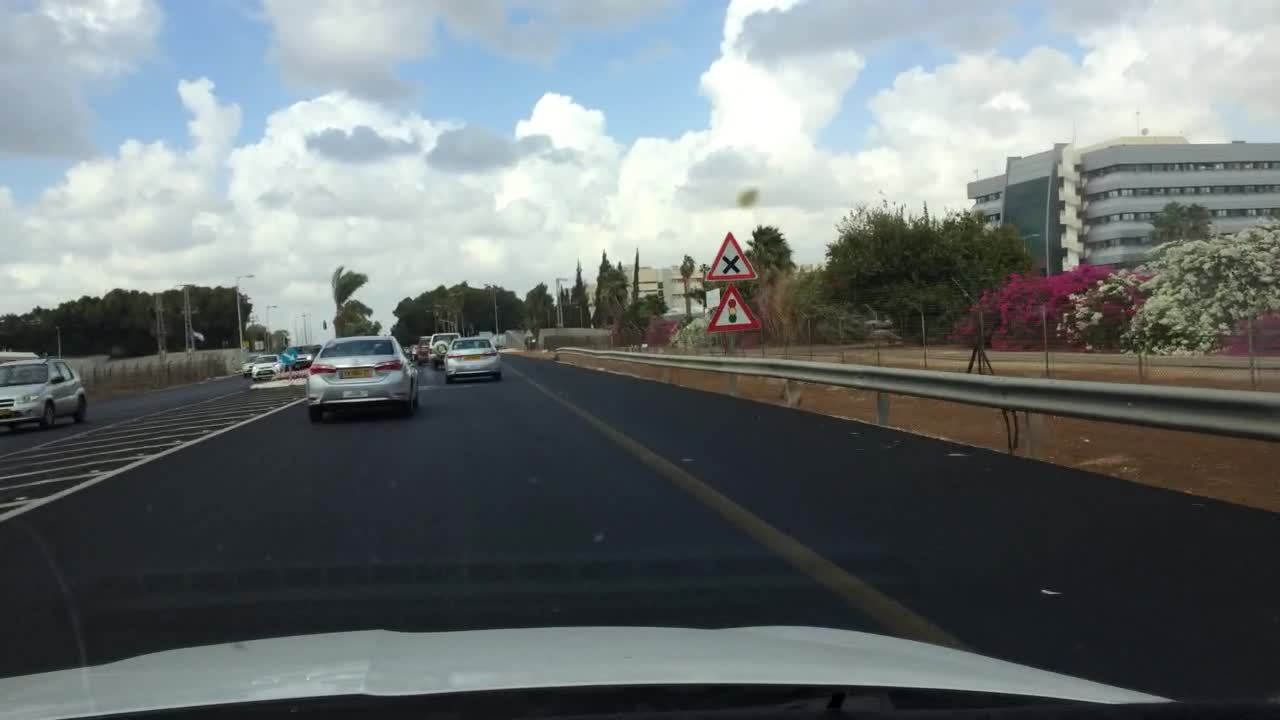car: (309, 339, 420, 421), (2, 355, 87, 435), (441, 341, 501, 384), (426, 331, 461, 371), (250, 354, 286, 384), (416, 333, 432, 365), (242, 351, 260, 379), (293, 349, 316, 370), (0, 350, 37, 363), (405, 345, 420, 363)
traffic sign: (708, 280, 762, 333), (702, 230, 758, 281)
